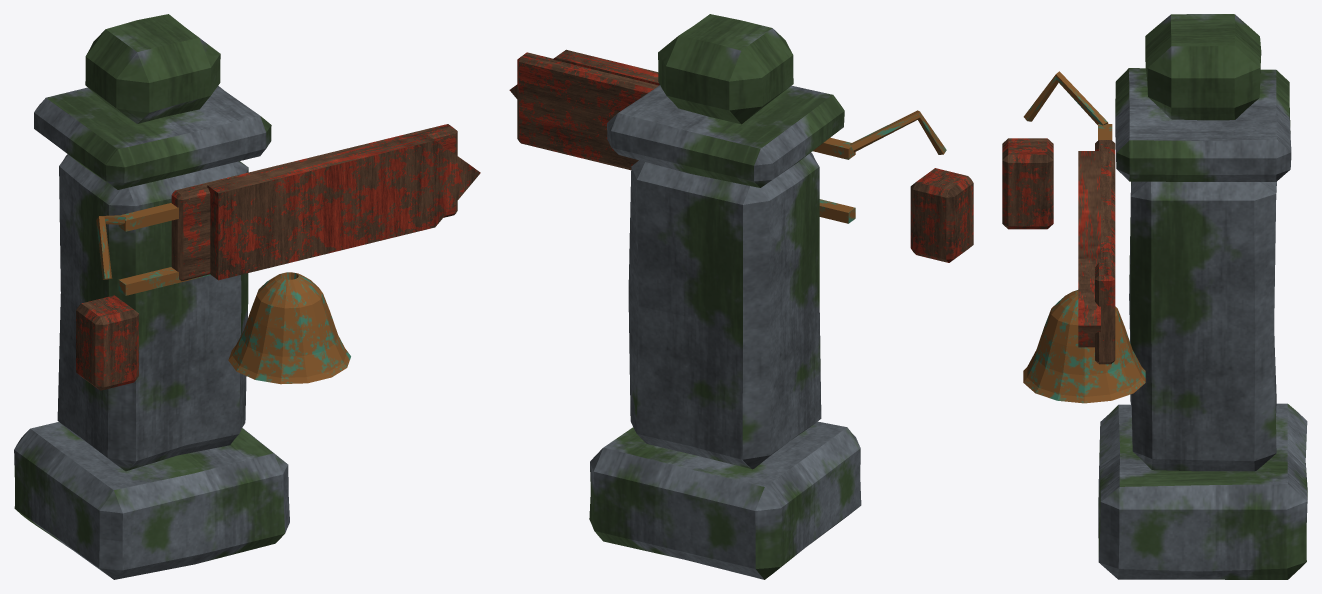
The model's file is Bell_Signpost_B.glb.
3 renders of one model, left to right at view 1: azimuth 30°, elevation 25°; view 2: azimuth 150°, elevation 25°; view 3: azimuth 270°, elevation 25°, orthographic. The views are drawn at different scales.
Parts seen in each view (by area): view 1: Bell_Signpost_B__Stone, Bell_Signpost_B__Timber, Bell_Signpost_B__Bronze; view 2: Bell_Signpost_B__Stone, Bell_Signpost_B__Timber, Bell_Signpost_B__Bronze; view 3: Bell_Signpost_B__Stone, Bell_Signpost_B__Timber, Bell_Signpost_B__Bronze.
Part boxes in pixels (left/top/right/bottom): Bell_Signpost_B__Stone: left=14, top=14, right=289, bottom=579; Bell_Signpost_B__Timber: left=76, top=124, right=480, bottom=390; Bell_Signpost_B__Bronze: left=96, top=203, right=350, bottom=384; Bell_Signpost_B__Stone: left=589, top=14, right=861, bottom=579; Bell_Signpost_B__Timber: left=509, top=49, right=973, bottom=262; Bell_Signpost_B__Bronze: left=813, top=110, right=946, bottom=223; Bell_Signpost_B__Stone: left=1098, top=14, right=1307, bottom=579; Bell_Signpost_B__Timber: left=1002, top=138, right=1115, bottom=364; Bell_Signpost_B__Bronze: left=1023, top=71, right=1145, bottom=403.
Size of the model in its own units: 4.8 by 5.48 by 2.97.
3 materials, 3 textured.
